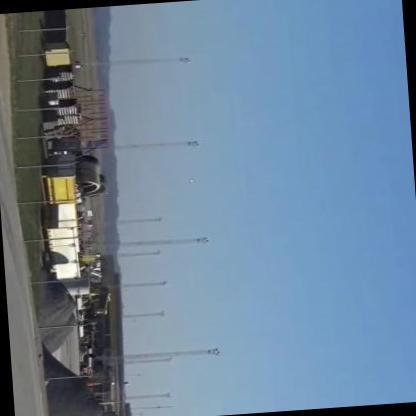plane: (185, 176, 199, 189)
